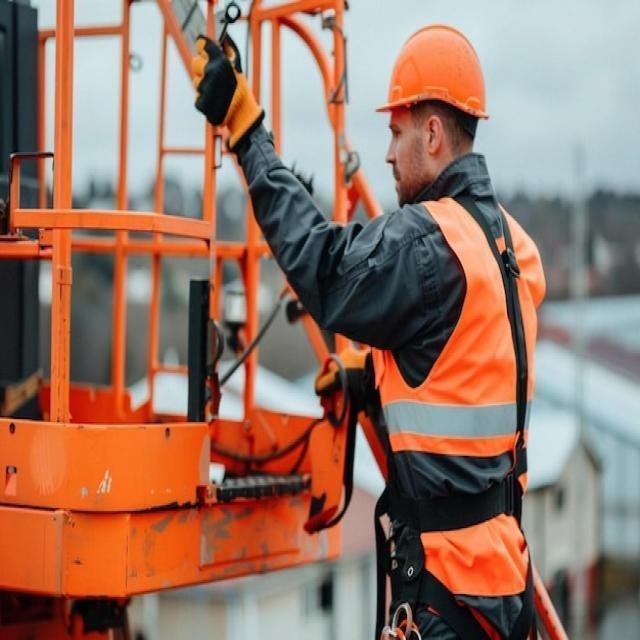Arnes_seguridad: (383, 197, 537, 640)
